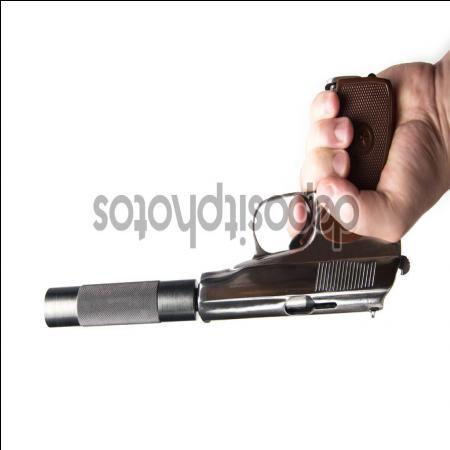Pistol: (203, 72, 406, 324)
